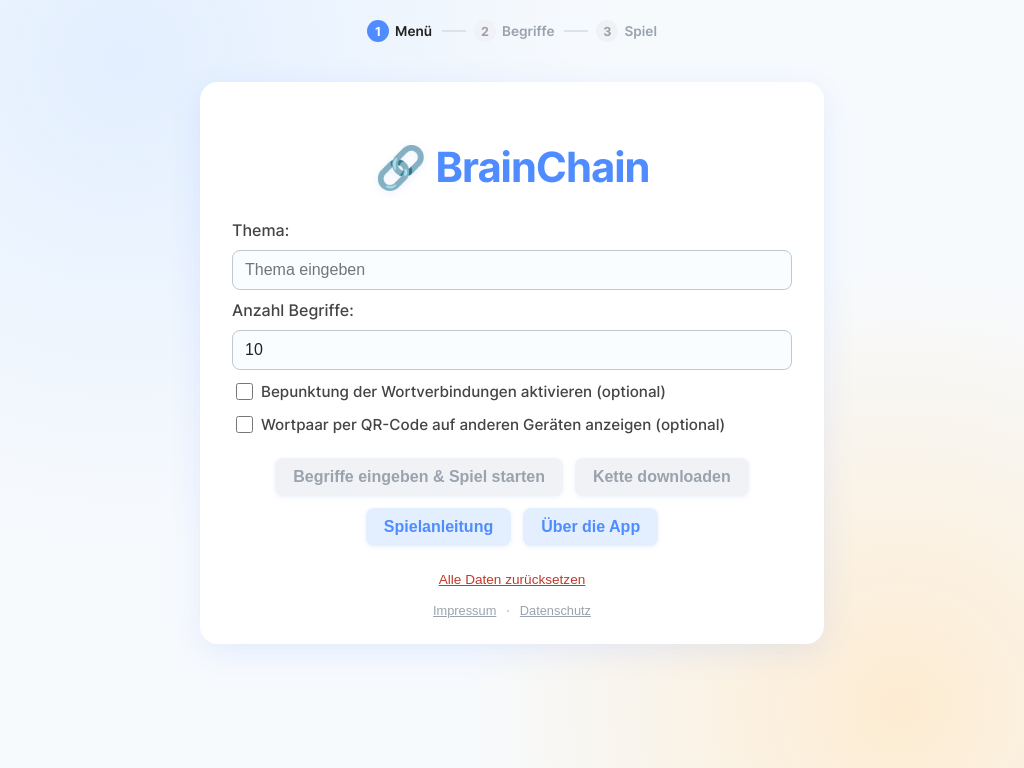
Test: Spiel-starten-Button wird aktiv, sobald ein Thema eingegeben ist
In the field with placeholder "Thema eingeben": point(512, 270) left=232, top=250, right=792, bottom=290, type "Tiere"
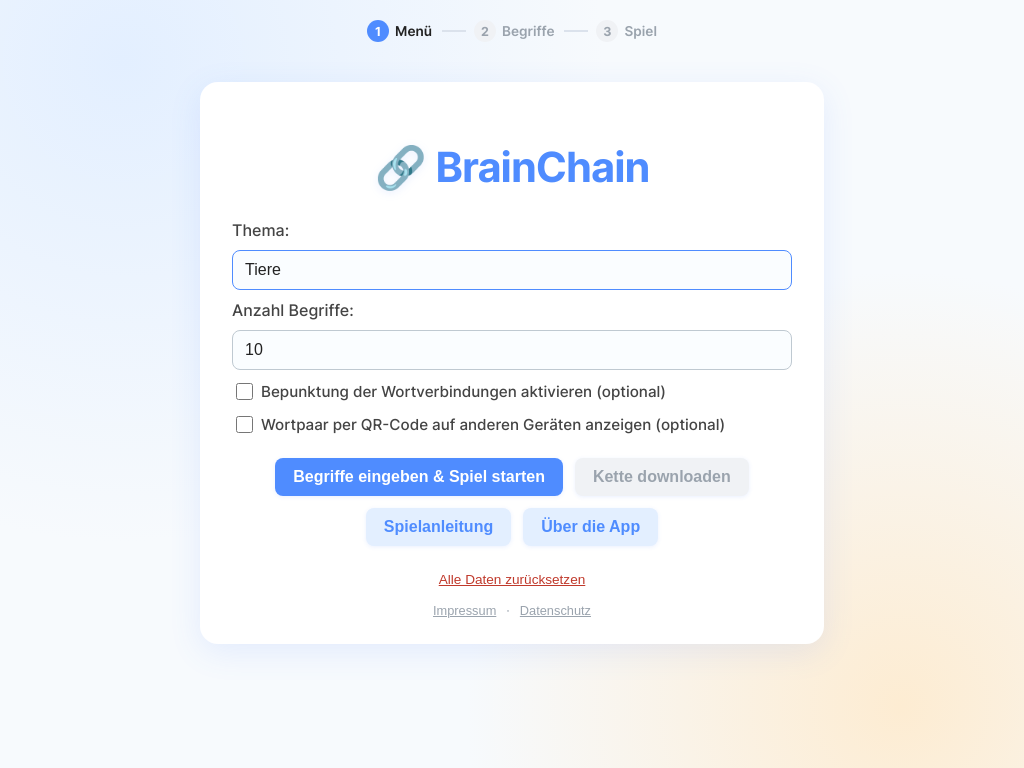
Expected: the button "Begriffe eingeben & Spiel starten" is enabled, left=275, top=458, right=563, bottom=496
